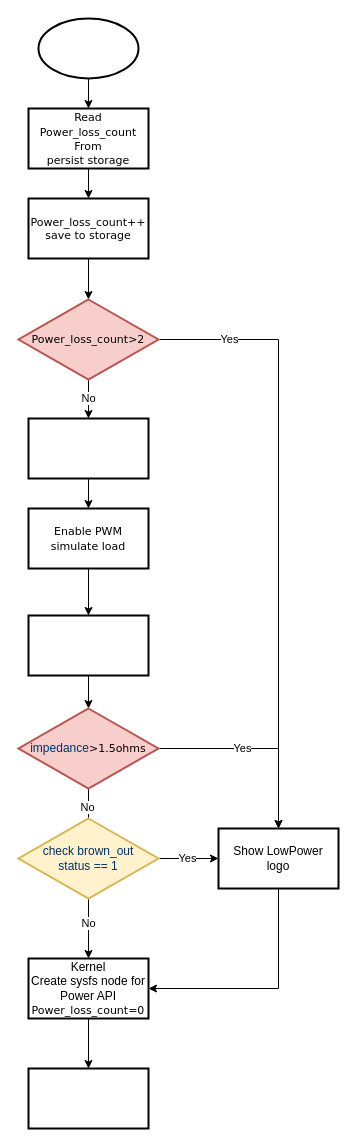
Image size: 356x1146. Some labels were removed from this diagram. Each missing label, with the centre of its shape:
"Apps Check Power Level" belongs at (x=88, y=1098).
"PowerOn" belongs at (x=88, y=48).
"Read adc adc_with_pwm_load caculate impedance" belongs at (x=88, y=645).
"Read adc adc_without_pwm" belongs at (x=88, y=448).
